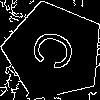C: (28, 26, 87, 78)
